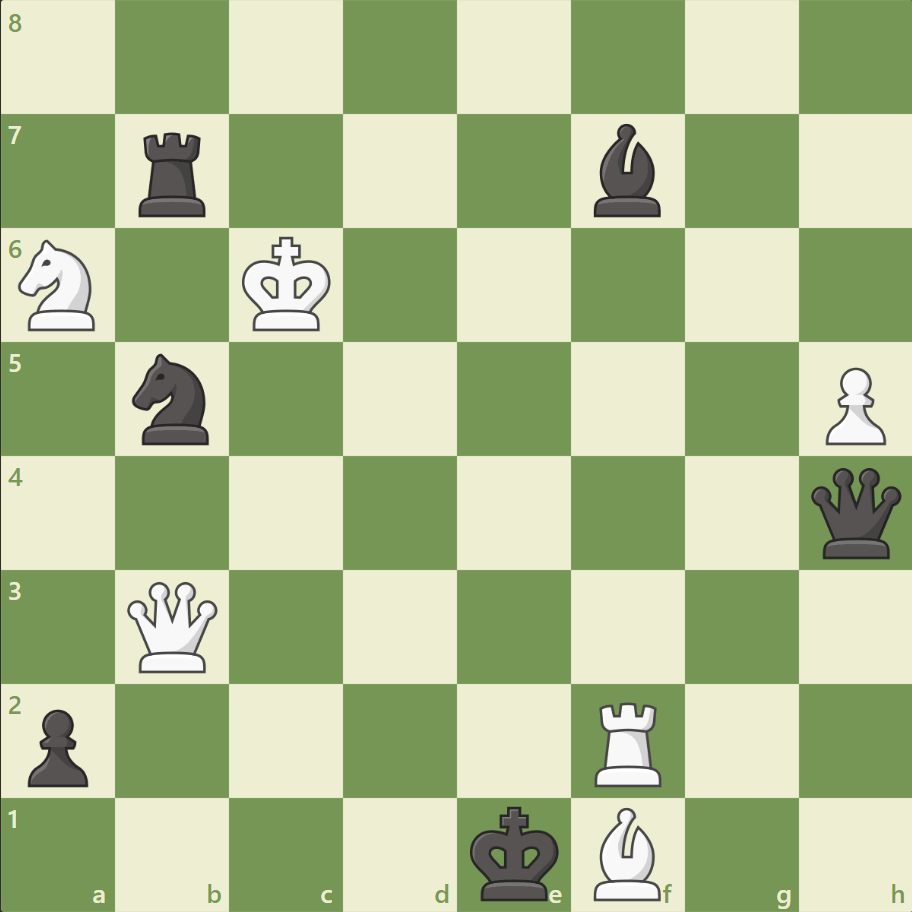B: (592, 806, 670, 910)
K: (242, 240, 340, 341)
N: (19, 240, 108, 341)
P: (823, 362, 895, 447)
Q: (127, 580, 228, 682)
R: (592, 694, 670, 794)
b: (592, 125, 670, 229)
k: (469, 807, 567, 909)
n: (133, 354, 222, 455)
p: (28, 703, 100, 787)
q: (808, 467, 909, 568)
r: (138, 127, 216, 227)
